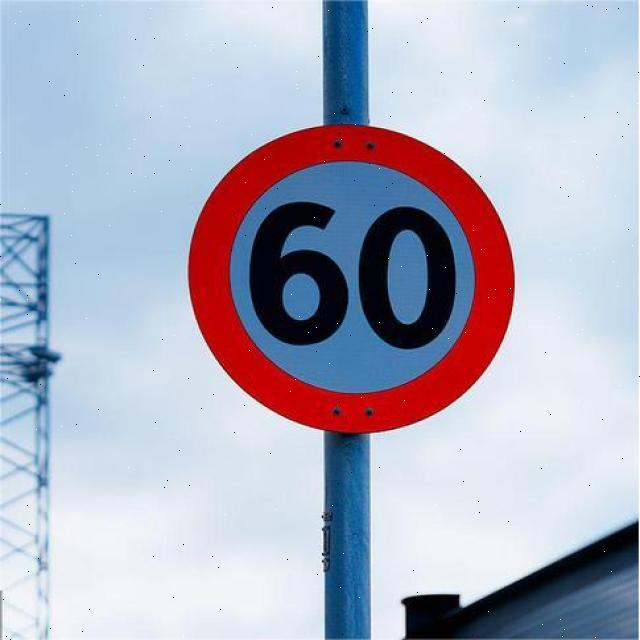speed limit 60: (185, 128, 515, 436)
